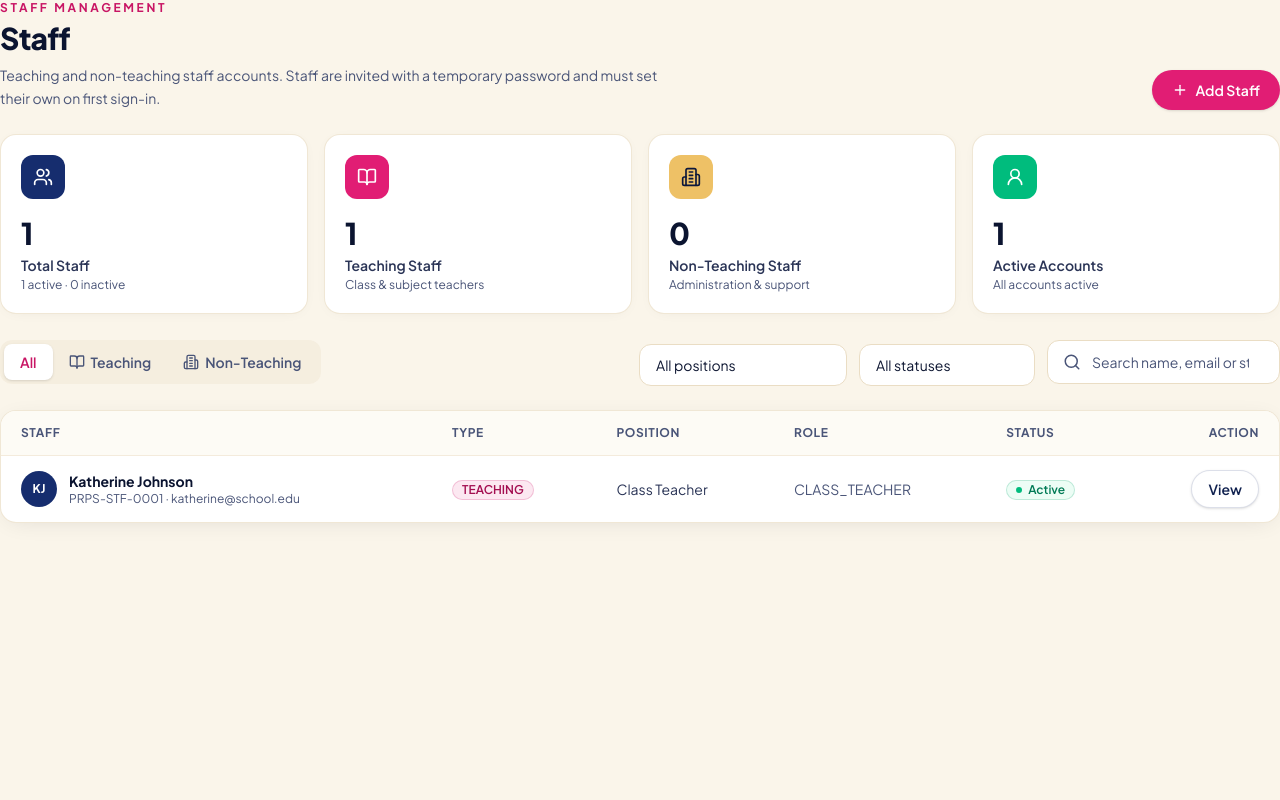
Test case: StaffManagementPage › creates a staff account via the position-based invitation form
Click the button "Add Staff". click: (1216, 90)
box: x1=1152 y1=70 x2=1279 y2=110
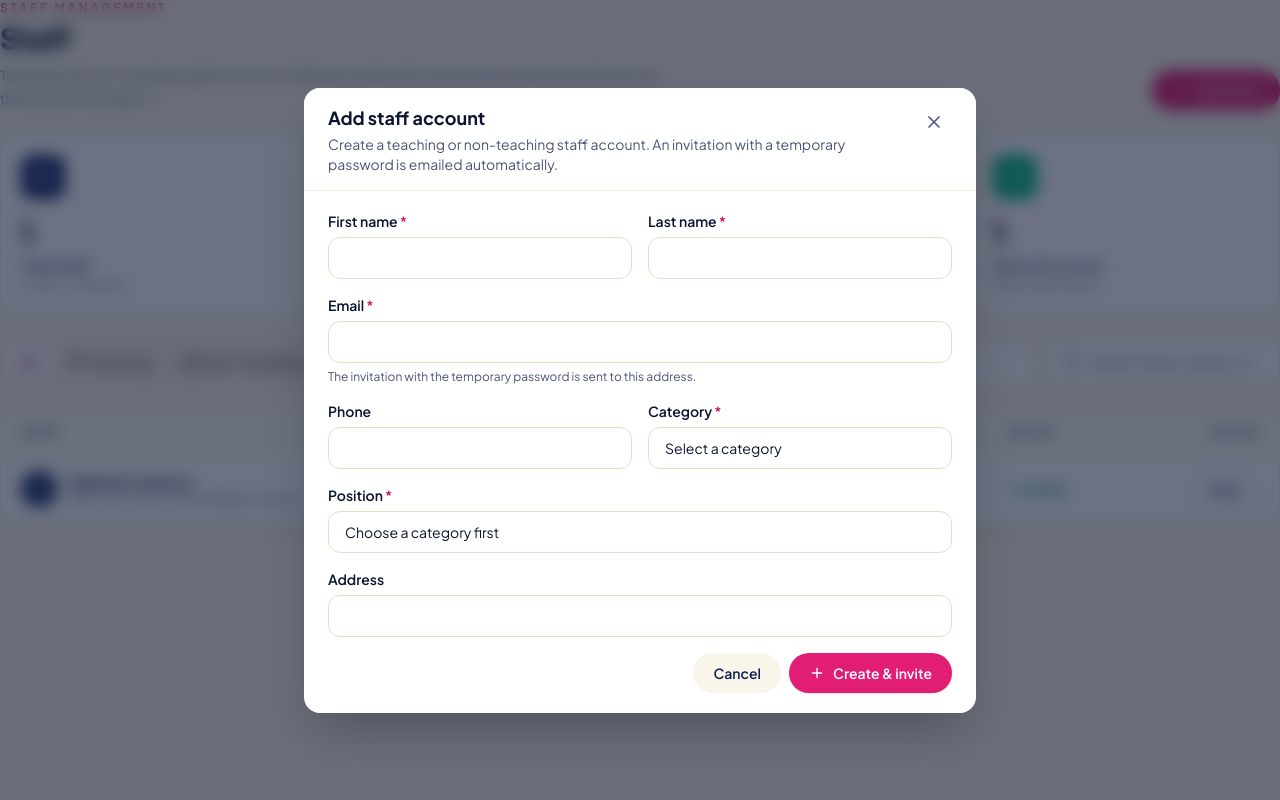
Type "Mary" into the field labelled "First name*". click: (480, 258)
box: x1=328 y1=236 x2=632 y2=278
Type "Jackson" into the field labelled "Last name*". click: (800, 258)
box: x1=648 y1=236 x2=952 y2=278
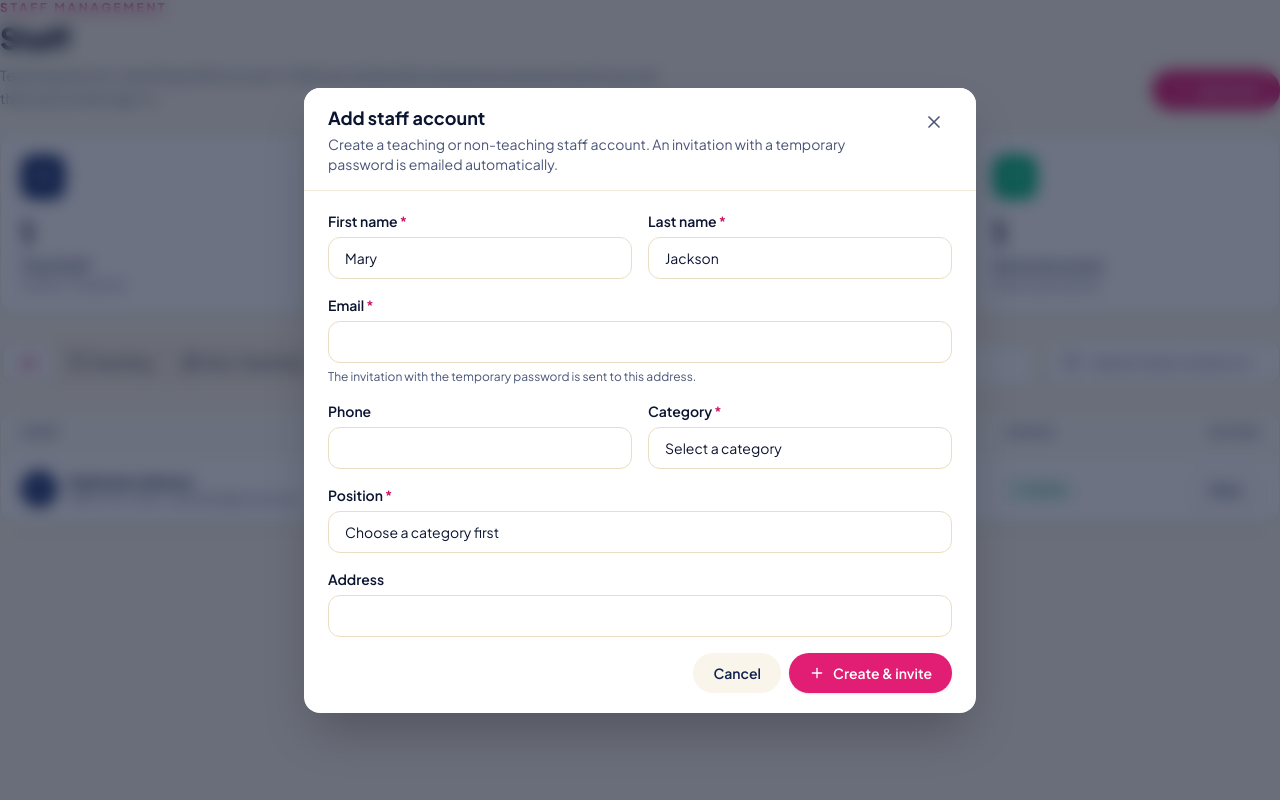
Type "mary@school.edu" into the field labelled "Email*". click: (640, 342)
box: x1=328 y1=320 x2=952 y2=362
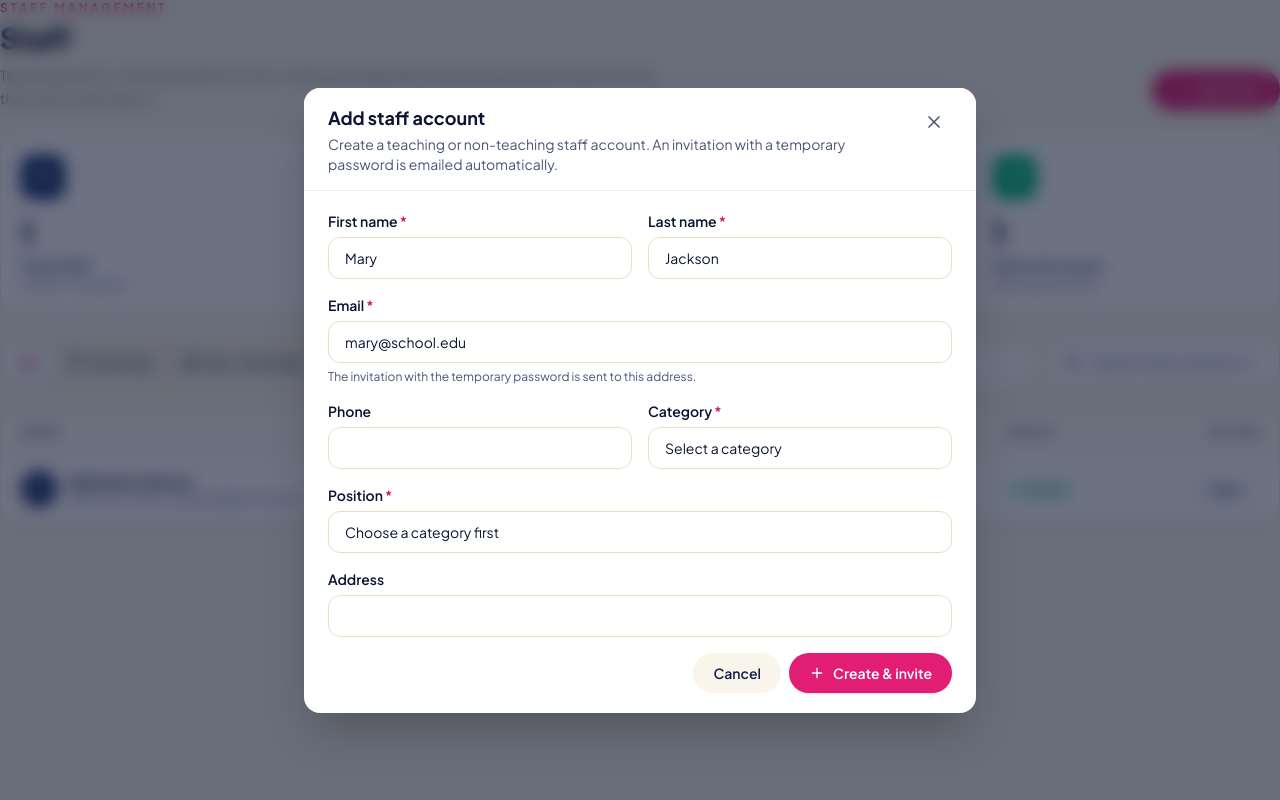
Select "Teaching" in the dropdown labelled "Category*". click: (800, 448)
box: x1=648 y1=426 x2=952 y2=468
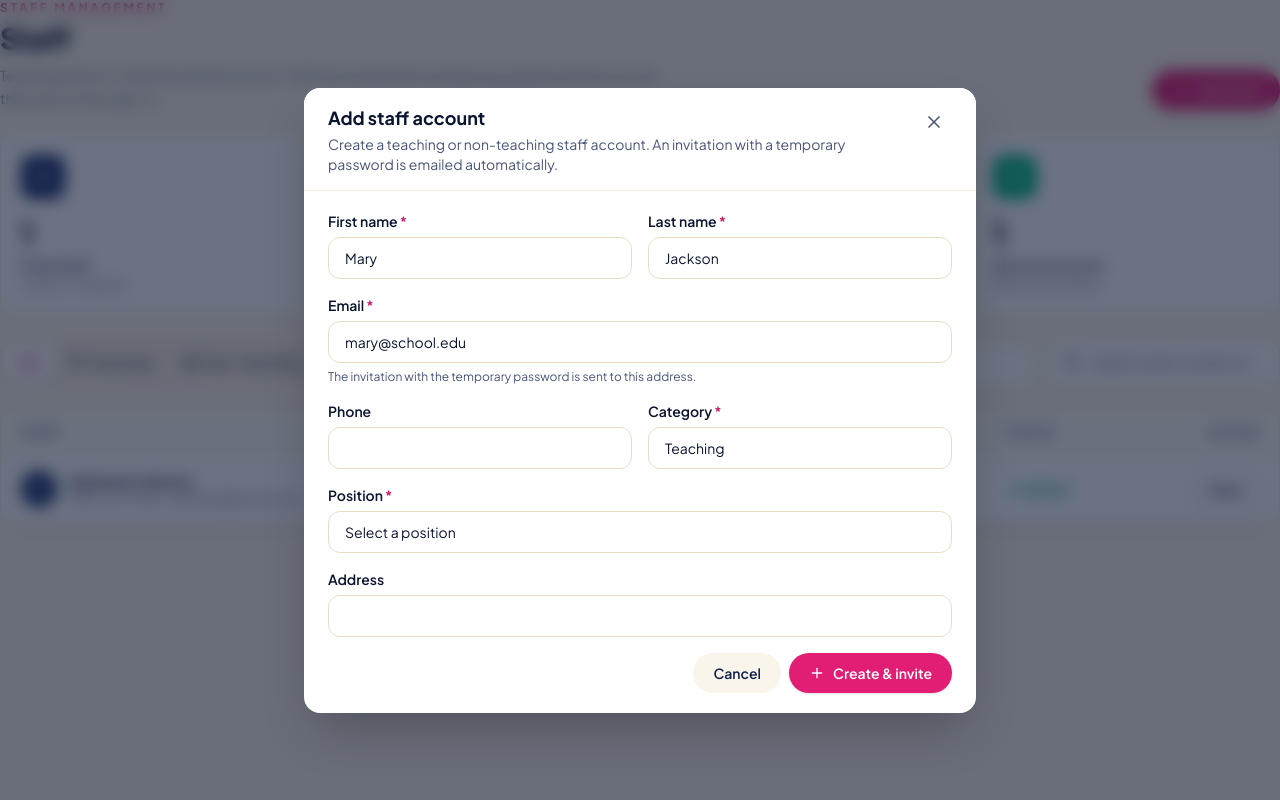
Select "Class Teacher" in the dropdown labelled "Position*". click: (640, 532)
box: x1=328 y1=510 x2=952 y2=552
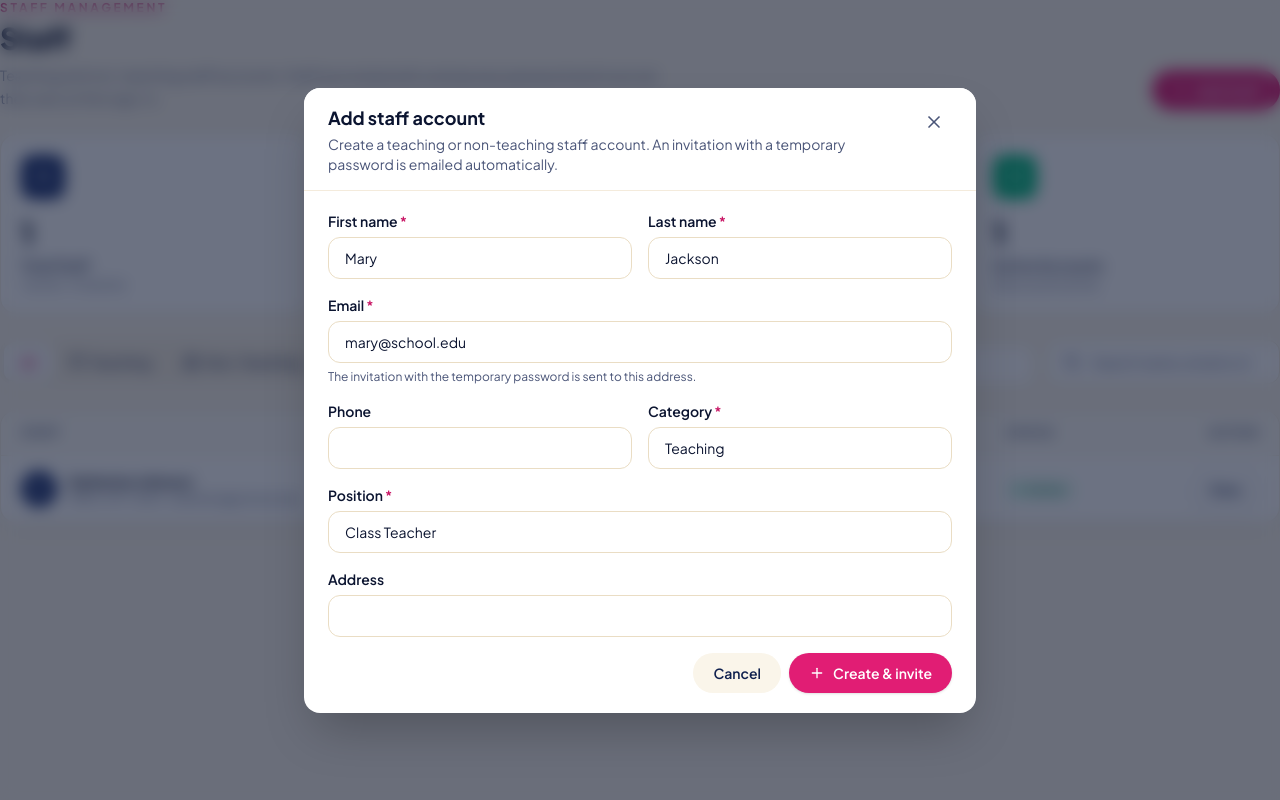
Click the button "Create & invite". click: (870, 672)
box: x1=789 y1=652 x2=952 y2=692
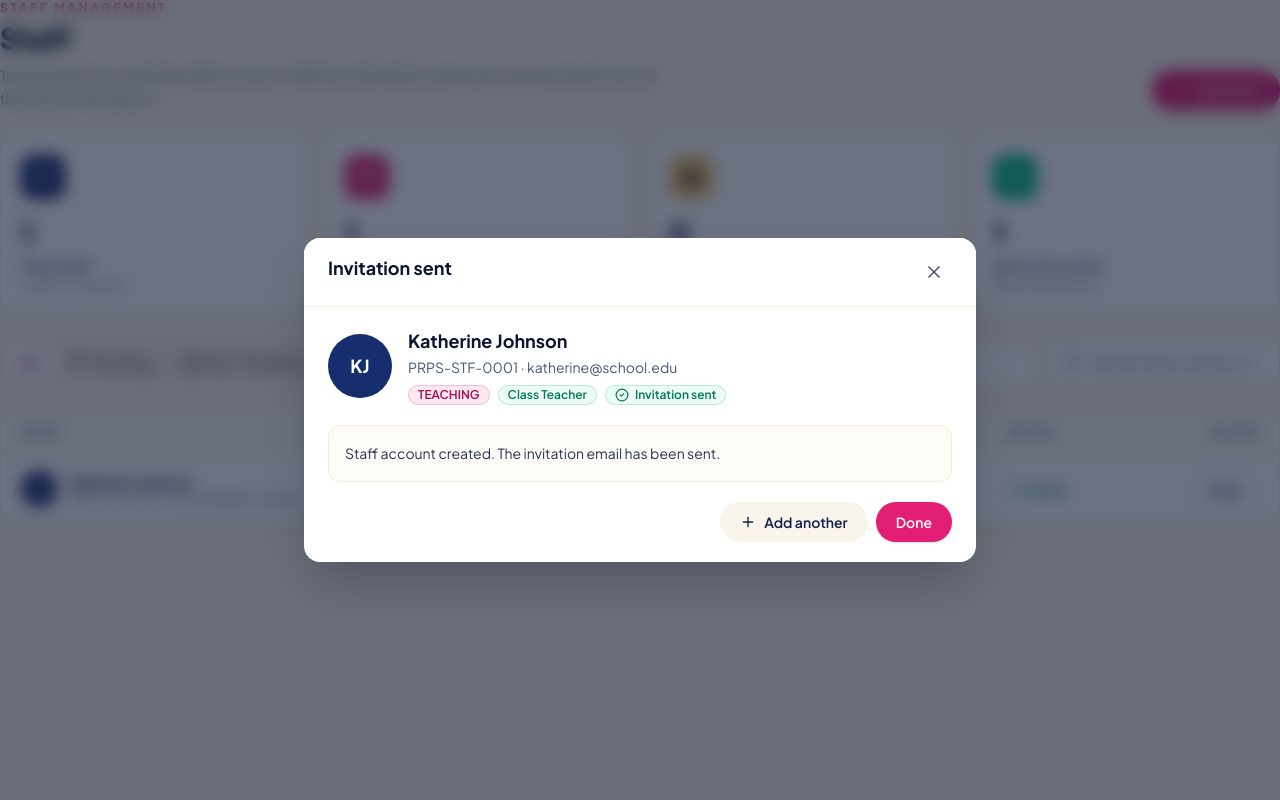
expect the heading "Invitation sent" is shown: met, box x1=328 y1=254 x2=452 y2=282
